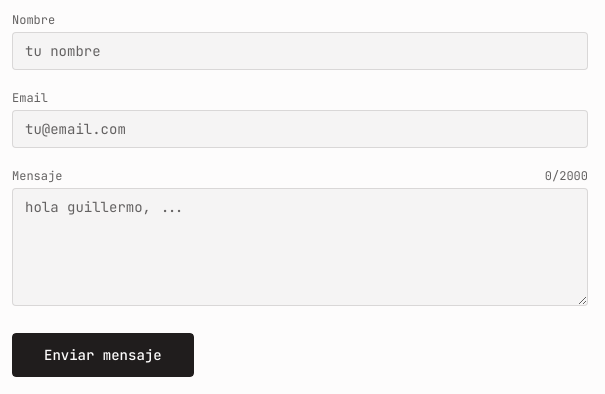
Test: ContactForm validación › cuenta los caracteres del mensaje
The image size is (605, 394).
Type "hola" into the text box labelled "Mensaje" at (300, 247), box [12, 188, 588, 306]
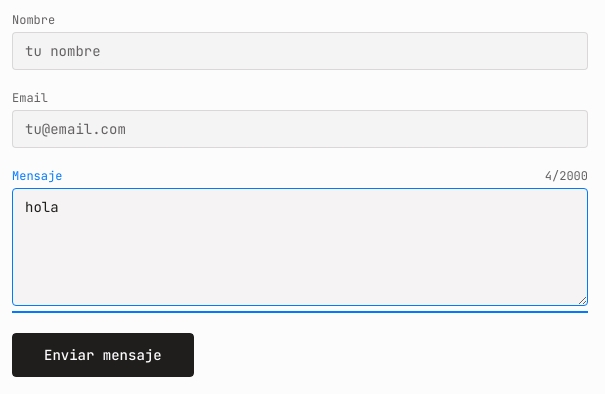
Check: the text "4/2000" is shown, box [545, 168, 588, 184]
